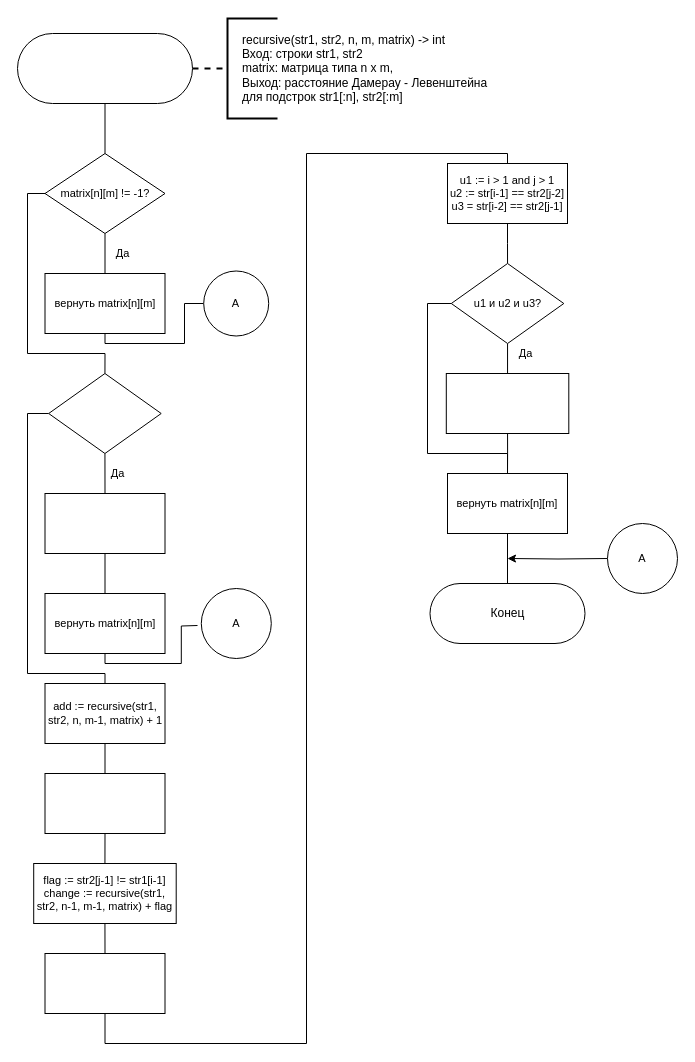
This 695x1062 diagram has some shape labels left out. Here are the shapes that lost their labels. From the top down, the centre of each, then its label:
At point 104,68: "Начало".
At point 104,413: "n > 0 и m == 0?".
At point 507,403: "matrix[i][j] = min( matrix[i][j], matrix[i-2][j-2] + 1)".
At point 104,523: "matrix[n][m] = n".
At point 104,803: "delete := recursive(str1, str2, n-1, m, matrix) + 1".
At point 104,983: "matrix[i][j] = min(add, delete, change)".
